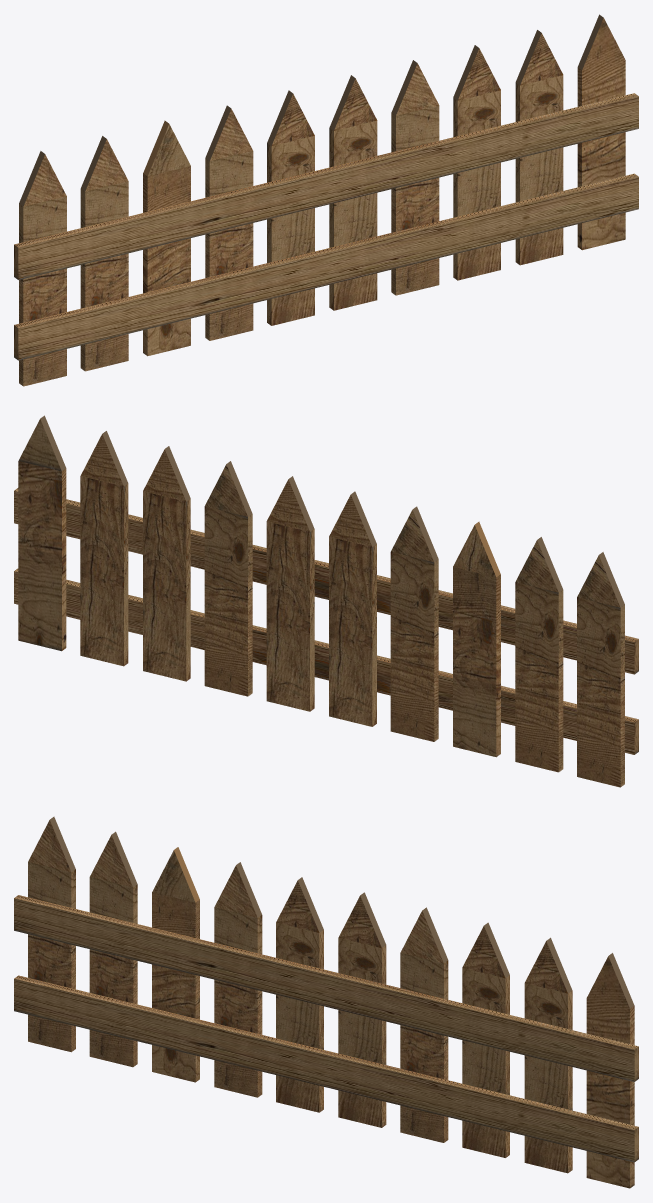
The model's file is fence.fbx.
The picture shows the model from 3 angles, top to bottom: view 1: azimuth 30°, elevation 25°; view 2: azimuth 150°, elevation 25°; view 3: azimuth 330°, elevation 25°; orthographic projection.
Visible parts, largest first — view 1: pCube13; view 2: pCube13; view 3: pCube13.
Part boxes in pixels (box(x1,y1,x2,y2)): pCube13: box(14, 14, 638, 386); pCube13: box(14, 415, 638, 787); pCube13: box(14, 816, 638, 1188).
Bounding box in the file's own units: 200 × 70 × 5.02.
